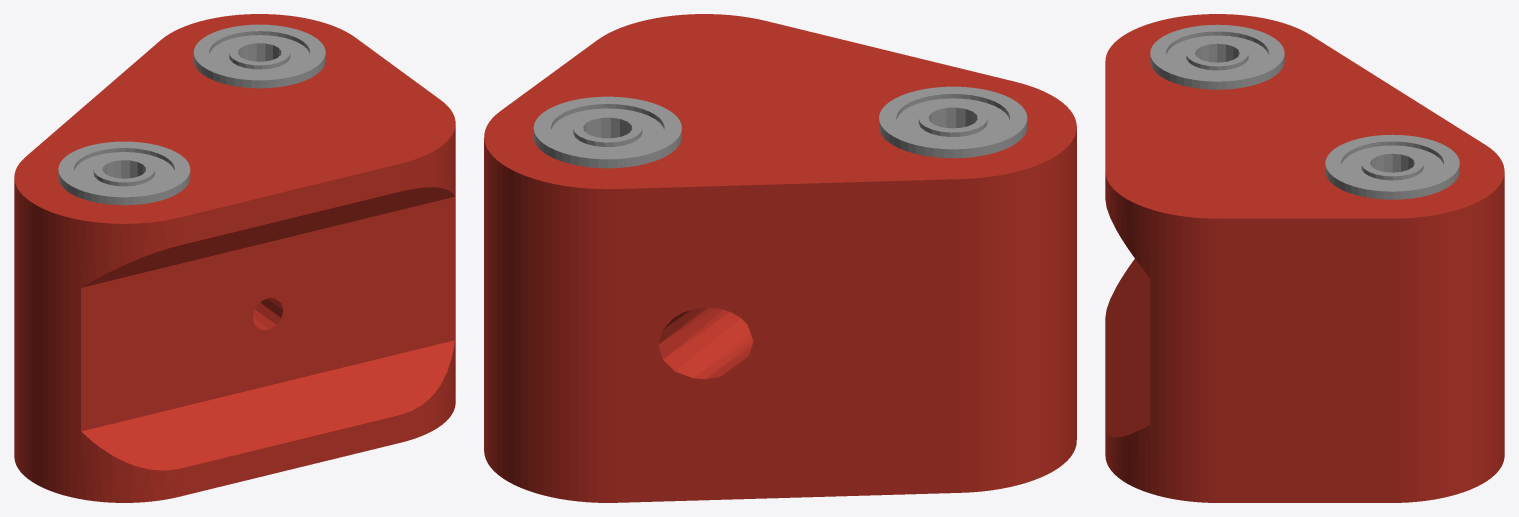
Rendered from end.dae.
3 views of the same model, side by side, from view 1: azimuth 30°, elevation 25°; view 2: azimuth 150°, elevation 25°; view 3: azimuth 270°, elevation 25° (orthographic). The views are drawn at different scales.
Visible parts, largest first — view 1: node4, node0, node1; view 2: node4, node1, node0; view 3: node4, node1, node0.
Part boxes in pixels (x1=…): node4: x1=14, y1=14, x2=455, y2=502; node0: x1=193, y1=24, x2=325, y2=88; node1: x1=58, y1=141, x2=190, y2=205; node4: x1=484, y1=14, x2=1076, y2=502; node1: x1=879, y1=86, x2=1027, y2=158; node0: x1=533, y1=96, x2=681, y2=168; node4: x1=1105, y1=14, x2=1504, y2=502; node1: x1=1150, y1=24, x2=1284, y2=89; node0: x1=1325, y1=134, x2=1459, y2=199.
Size of the model in its own units: 0.054 by 0.0445 by 0.037.
